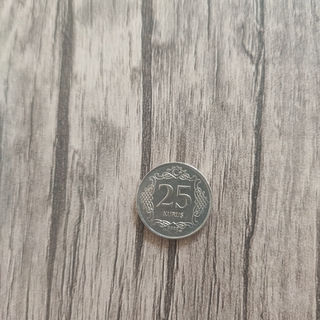25KURUS: (134, 160, 213, 240)
